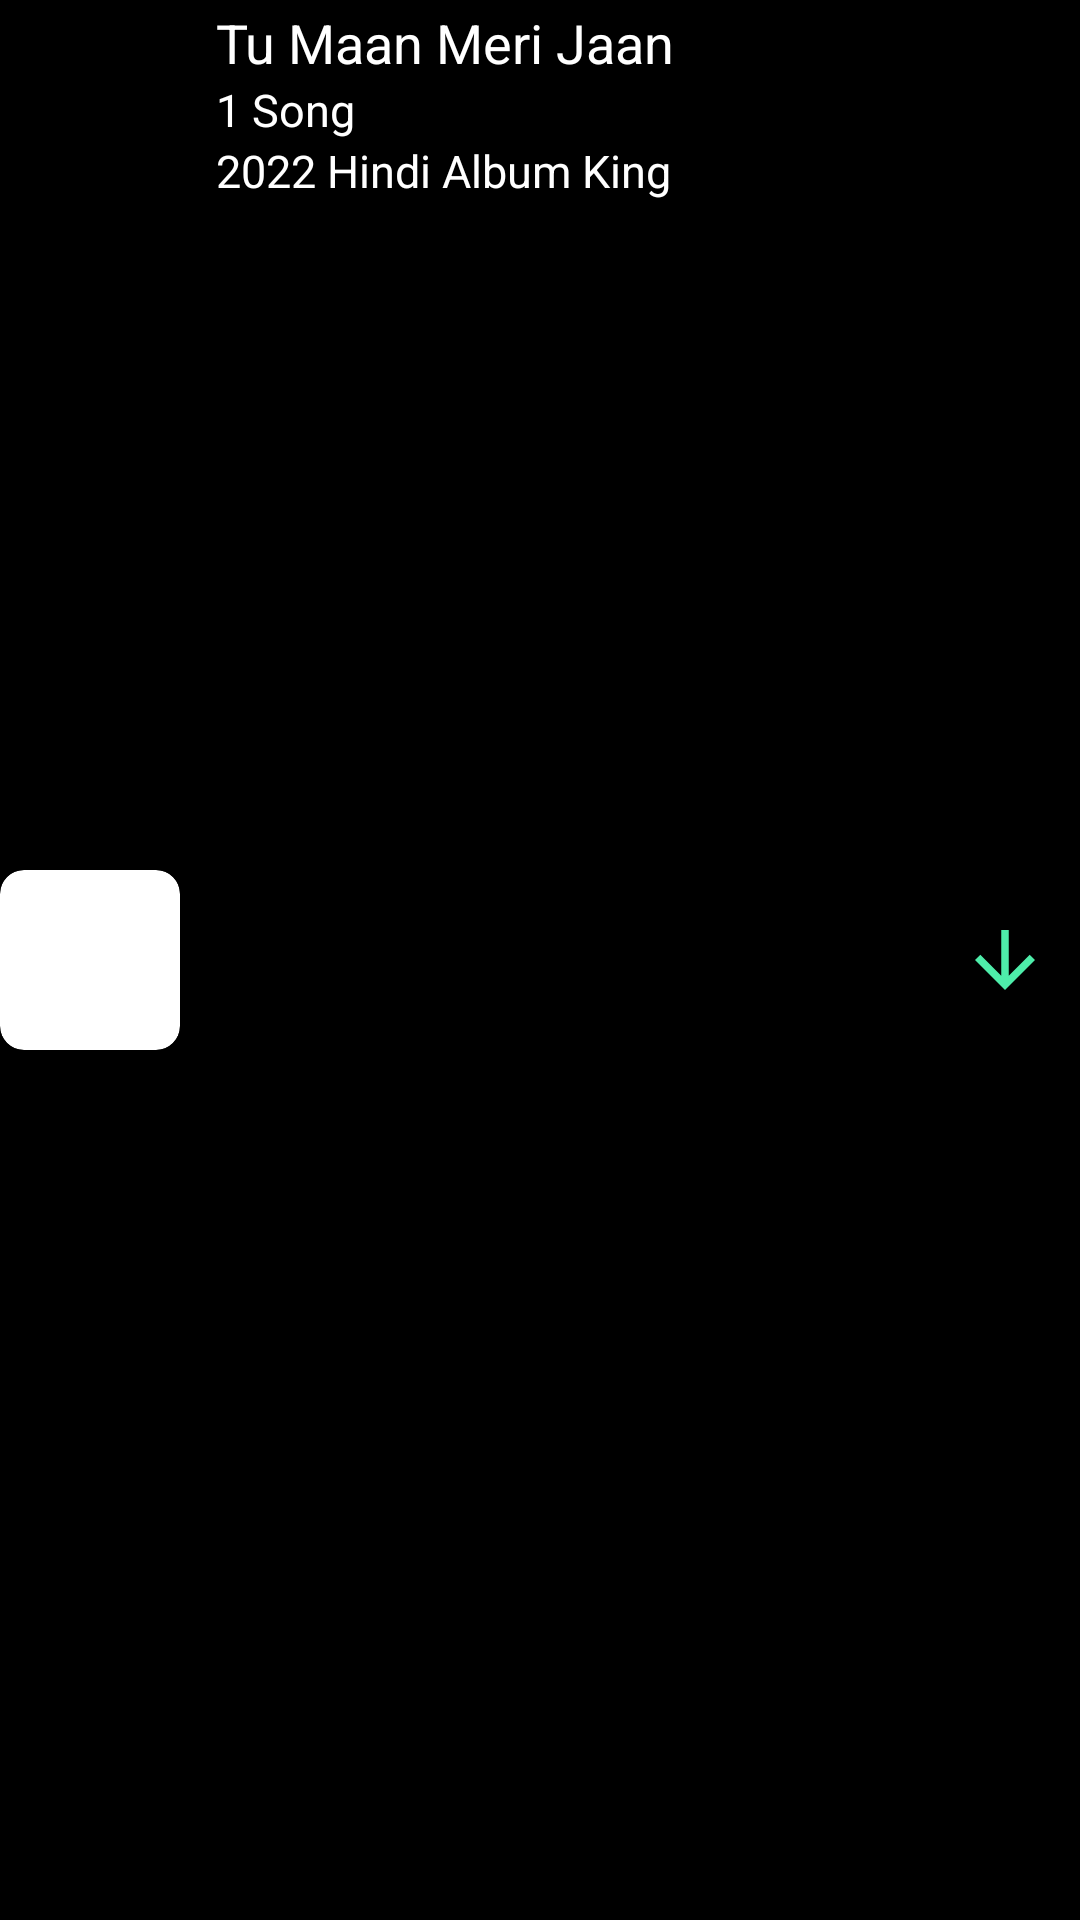

Screen size 1080*1920. Icon name, then its center in pixels as point (x, y):
arrow down: point (1005, 960)
